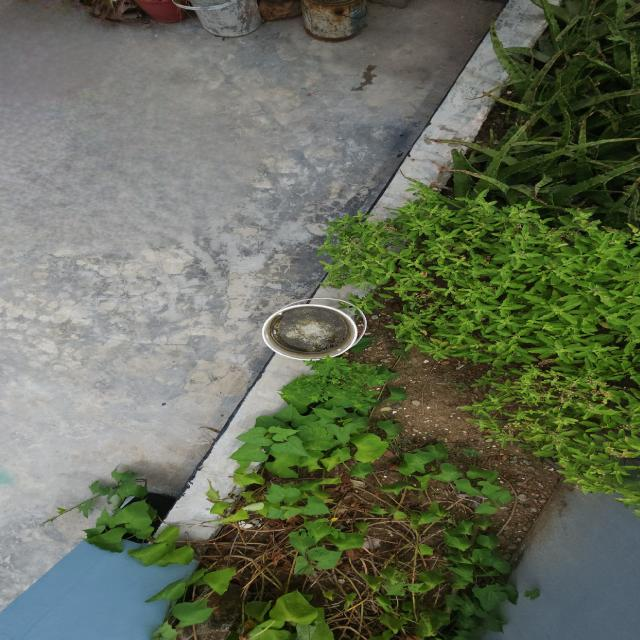Breeding Place: (257, 0, 640, 421), (138, 346, 628, 640), (20, 0, 424, 44), (237, 296, 381, 366)
